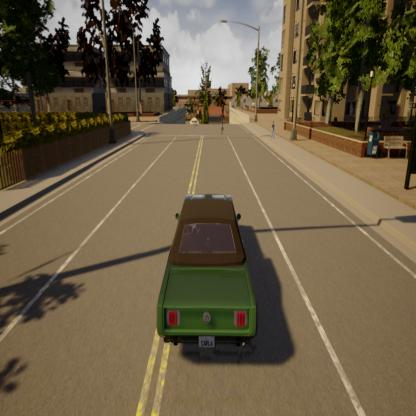Cars: (156, 186, 267, 374)
Pedestrian: (265, 114, 281, 164), (218, 116, 230, 139)
